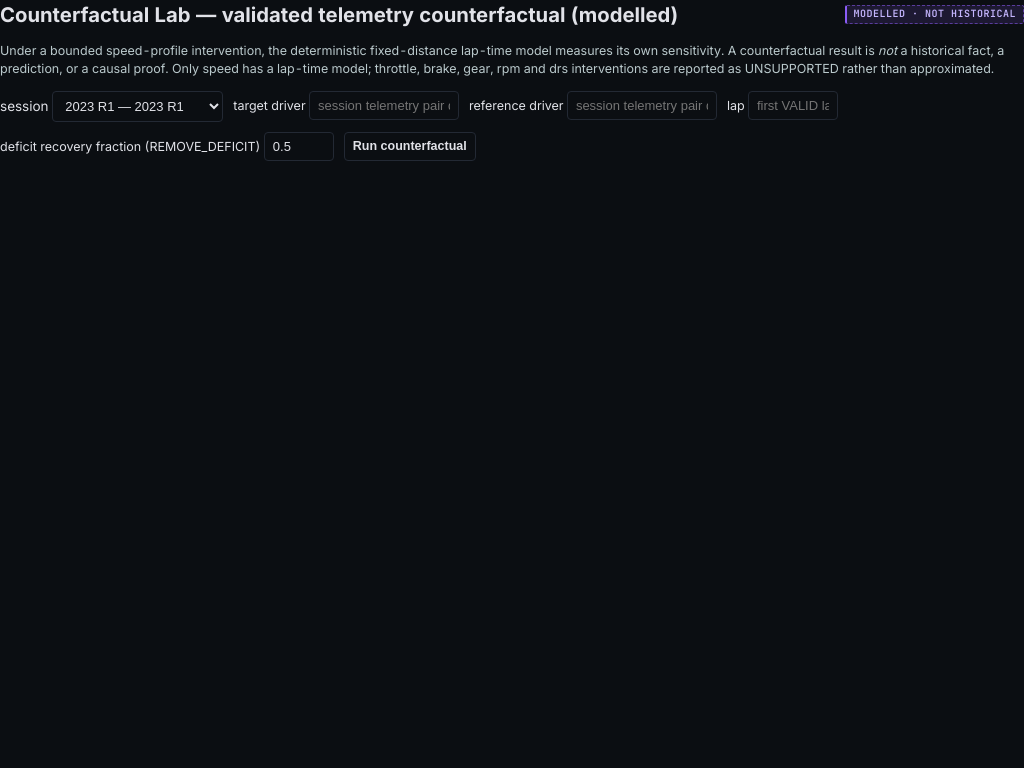
CounterfactualView (Stitch Counterfactual Lab) › renders the aligned speed profile canvas from real samples
Click the button "Run counterfactual" at coordinates (410, 146), box 344,132 -> 476,161
(page scrolled)
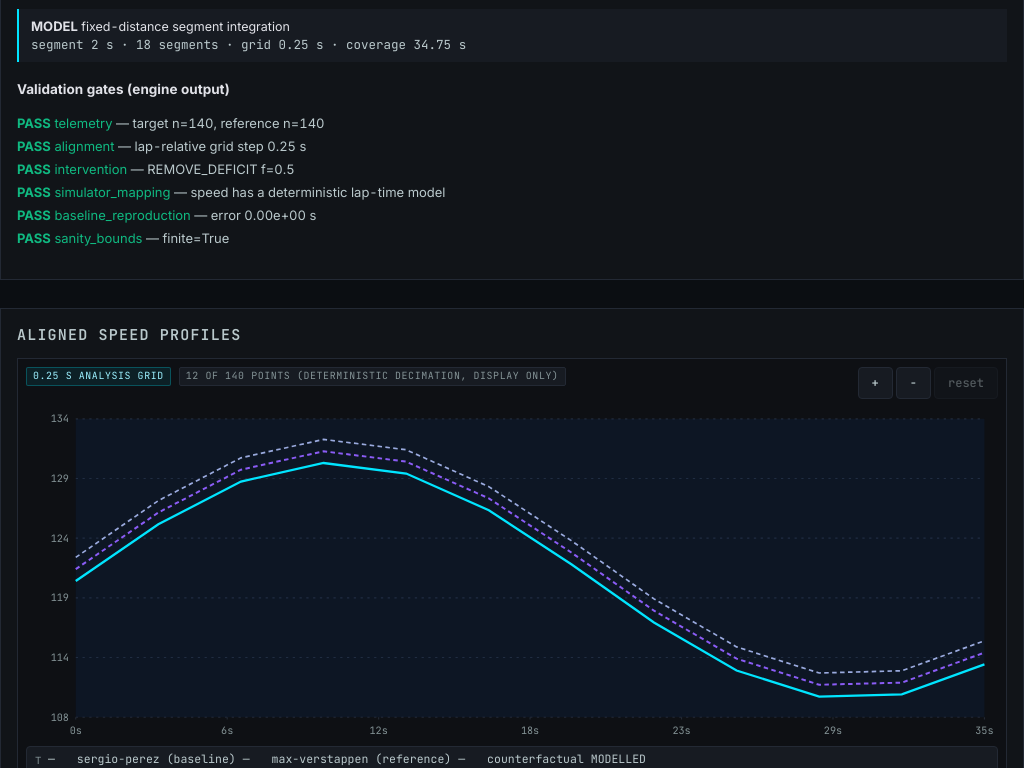
Now the text "0.25 S ANALYSIS GRID" is shown, box 26,367 -> 171,386
Now the text "12 OF 140 POINTS (DETERMINISTIC DECIMATION, DISPLAY ONLY)" is shown, box 179,367 -> 566,386
